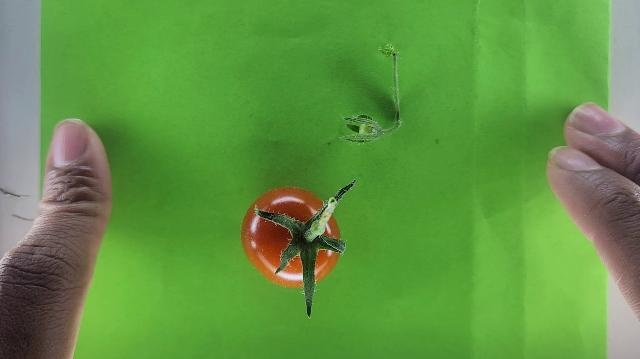Fruit Bud: (350, 112, 379, 145), (346, 114, 374, 135)
Fully Grown: (239, 187, 341, 289)
